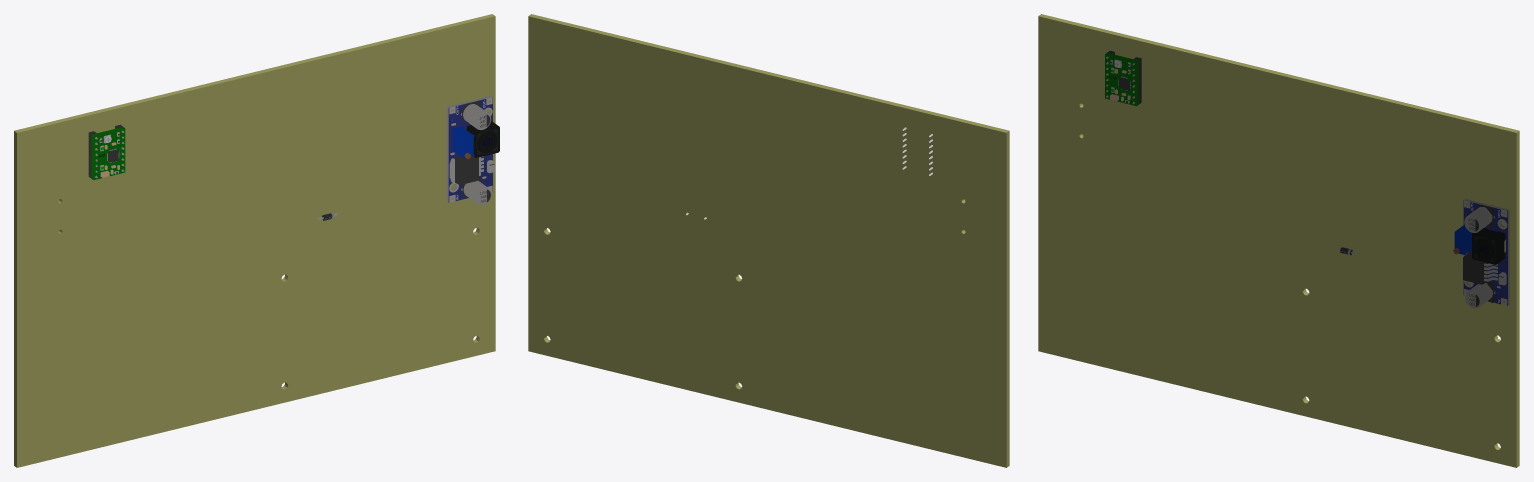
The model's file is OBJ_PCB_Integrated Mechatronic System for Decentralized Nutritional Asset Management.obj.
3 views of the same model, side by side, from view 1: azimuth 30°, elevation 25°; view 2: azimuth 150°, elevation 25°; view 3: azimuth 330°, elevation 25° (orthographic).
Bounding box in the file's own units: 904 × 605 × 76.11.
